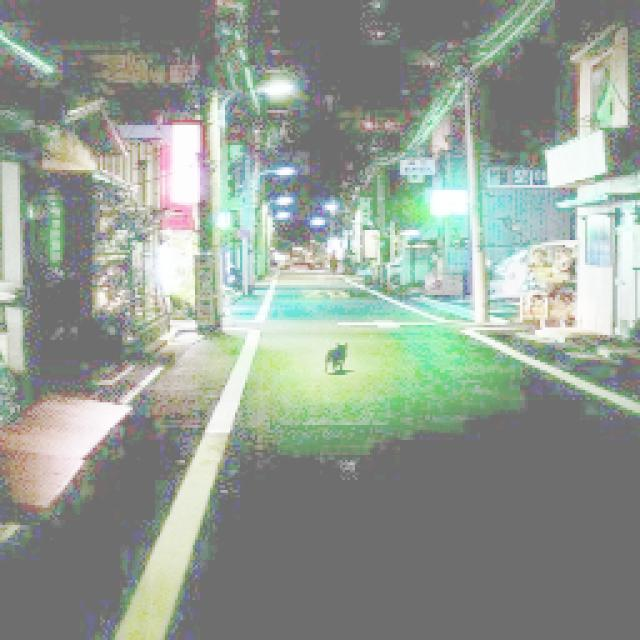cat: (311, 323, 365, 388)
